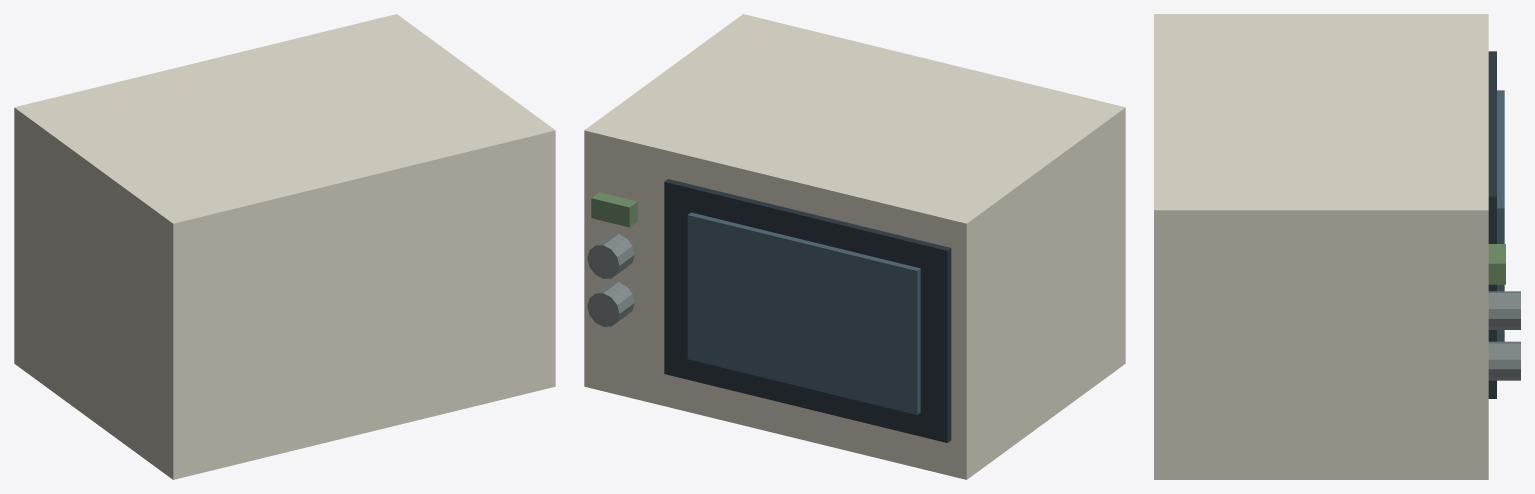
File: microwave.glb
The picture shows the model from 3 angles, left to right: view 1: azimuth 30°, elevation 25°; view 2: azimuth 150°, elevation 25°; view 3: azimuth 270°, elevation 25°; orthographic projection. The views are drawn at different scales.
Parts seen in each view (by area): view 1: microwave; view 2: microwave; view 3: microwave.
Boxes of the visible parts, <box> form: microwave: <box>14,14,555,479</box>; microwave: <box>584,14,1125,479</box>; microwave: <box>1154,14,1520,479</box>.
Size of the model in its own units: 0.5 by 0.32 by 0.3945.
